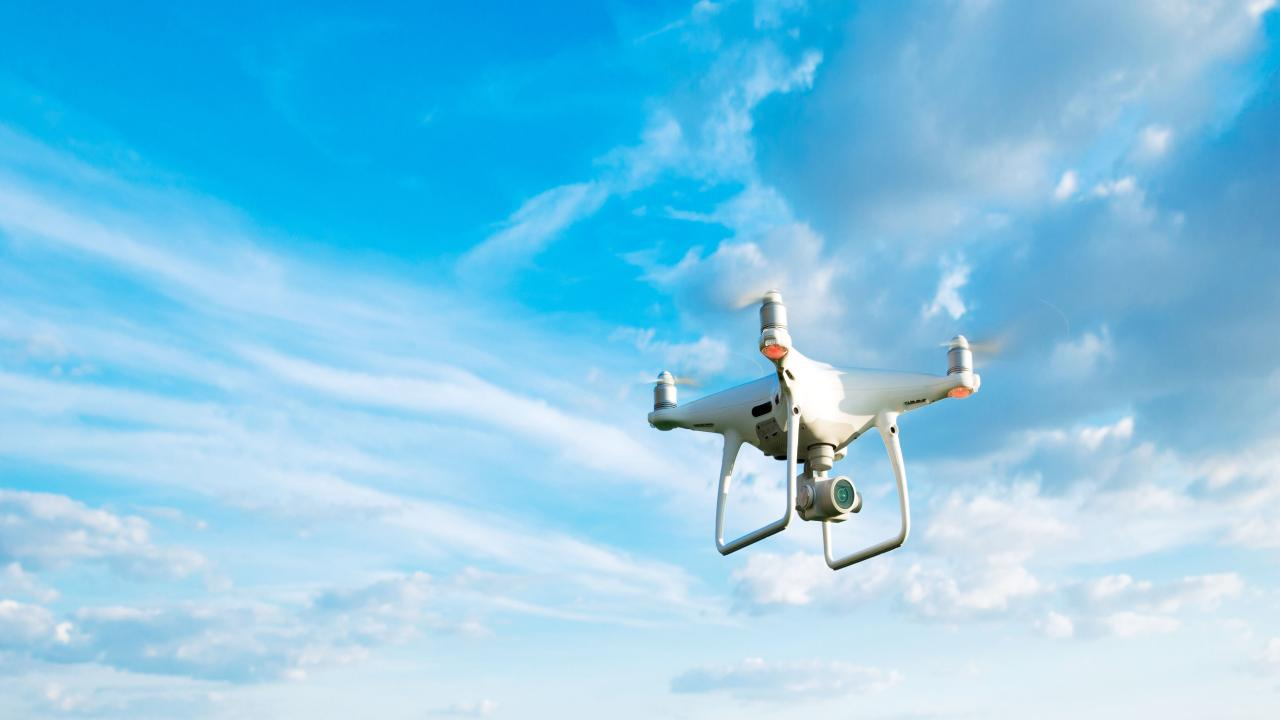Drone: (593, 221, 1074, 576)
